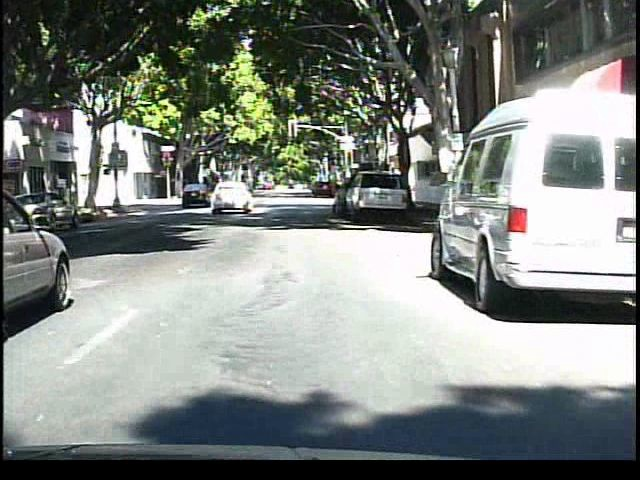person: (218, 171, 240, 208)
